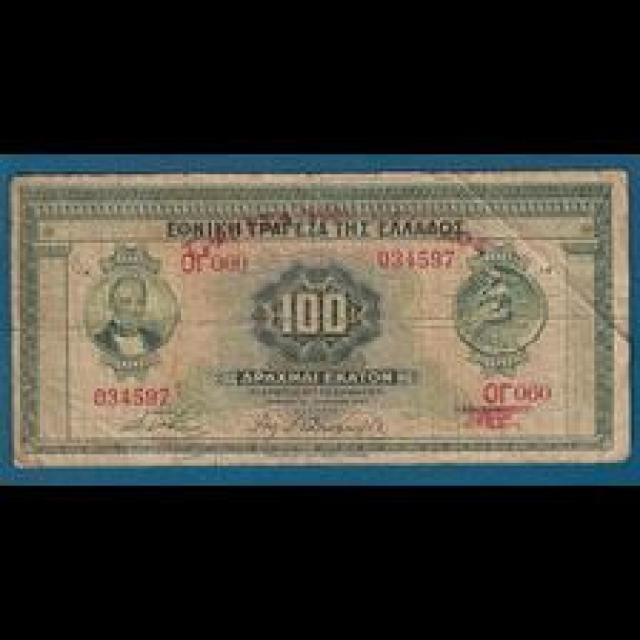banknote: (5, 170, 630, 467), (270, 288, 363, 345)
